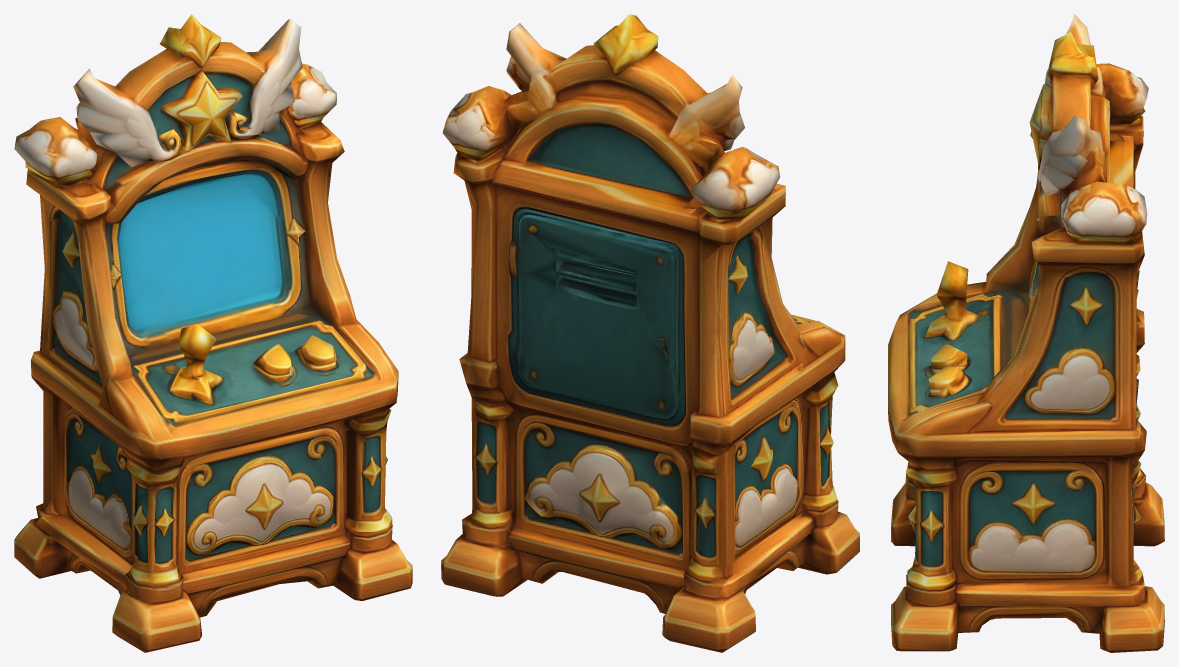
The model's file is arcade-machine.glb.
3 views of the same model, side by side, from view 1: azimuth 30°, elevation 25°; view 2: azimuth 150°, elevation 25°; view 3: azimuth 270°, elevation 25° (orthographic). The views are drawn at different scales.
Parts seen in each view (by area): view 1: tripo_node_9b8c5937-2cc3-42cc-9420-ca91606ced46; view 2: tripo_node_9b8c5937-2cc3-42cc-9420-ca91606ced46; view 3: tripo_node_9b8c5937-2cc3-42cc-9420-ca91606ced46.
Boxes of the visible parts, box(x1,y1,x2,y2) form: tripo_node_9b8c5937-2cc3-42cc-9420-ca91606ced46: box(14, 14, 412, 652); tripo_node_9b8c5937-2cc3-42cc-9420-ca91606ced46: box(441, 14, 859, 652); tripo_node_9b8c5937-2cc3-42cc-9420-ca91606ced46: box(888, 14, 1164, 652).
Bounding box in the file's own units: 0.5567 × 0.9789 × 0.444.
1 material, 1 textured.
